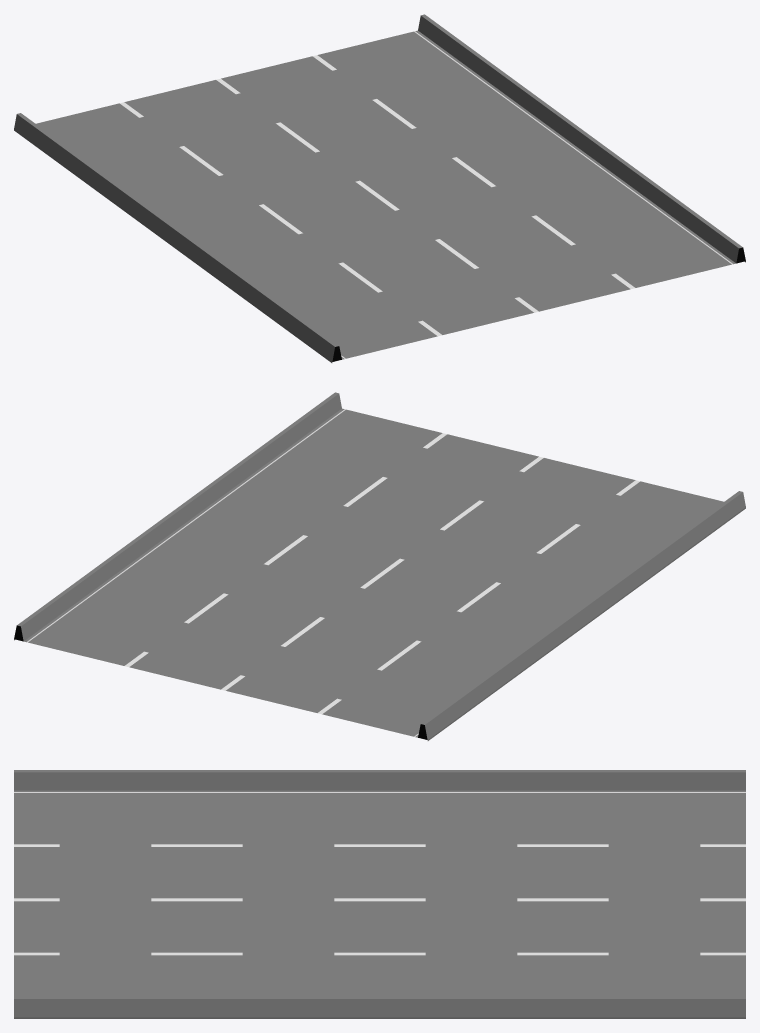
The model's file is Motorway_Long.fbx.
3 views of the same model, one above another, from view 1: azimuth 30°, elevation 25°; view 2: azimuth 150°, elevation 25°; view 3: azimuth 270°, elevation 25° (orthographic). The views are drawn at different scales.
Parts seen in each view (by area): view 1: Plane; view 2: Plane; view 3: Plane.
Boxes of the visible parts, x1,y1,x2,y2 form: Plane: (14,14,745,362); Plane: (14,392,745,740); Plane: (14,770,745,1018).
Bounding box in the file's own units: 30 × 1.1 × 40.
